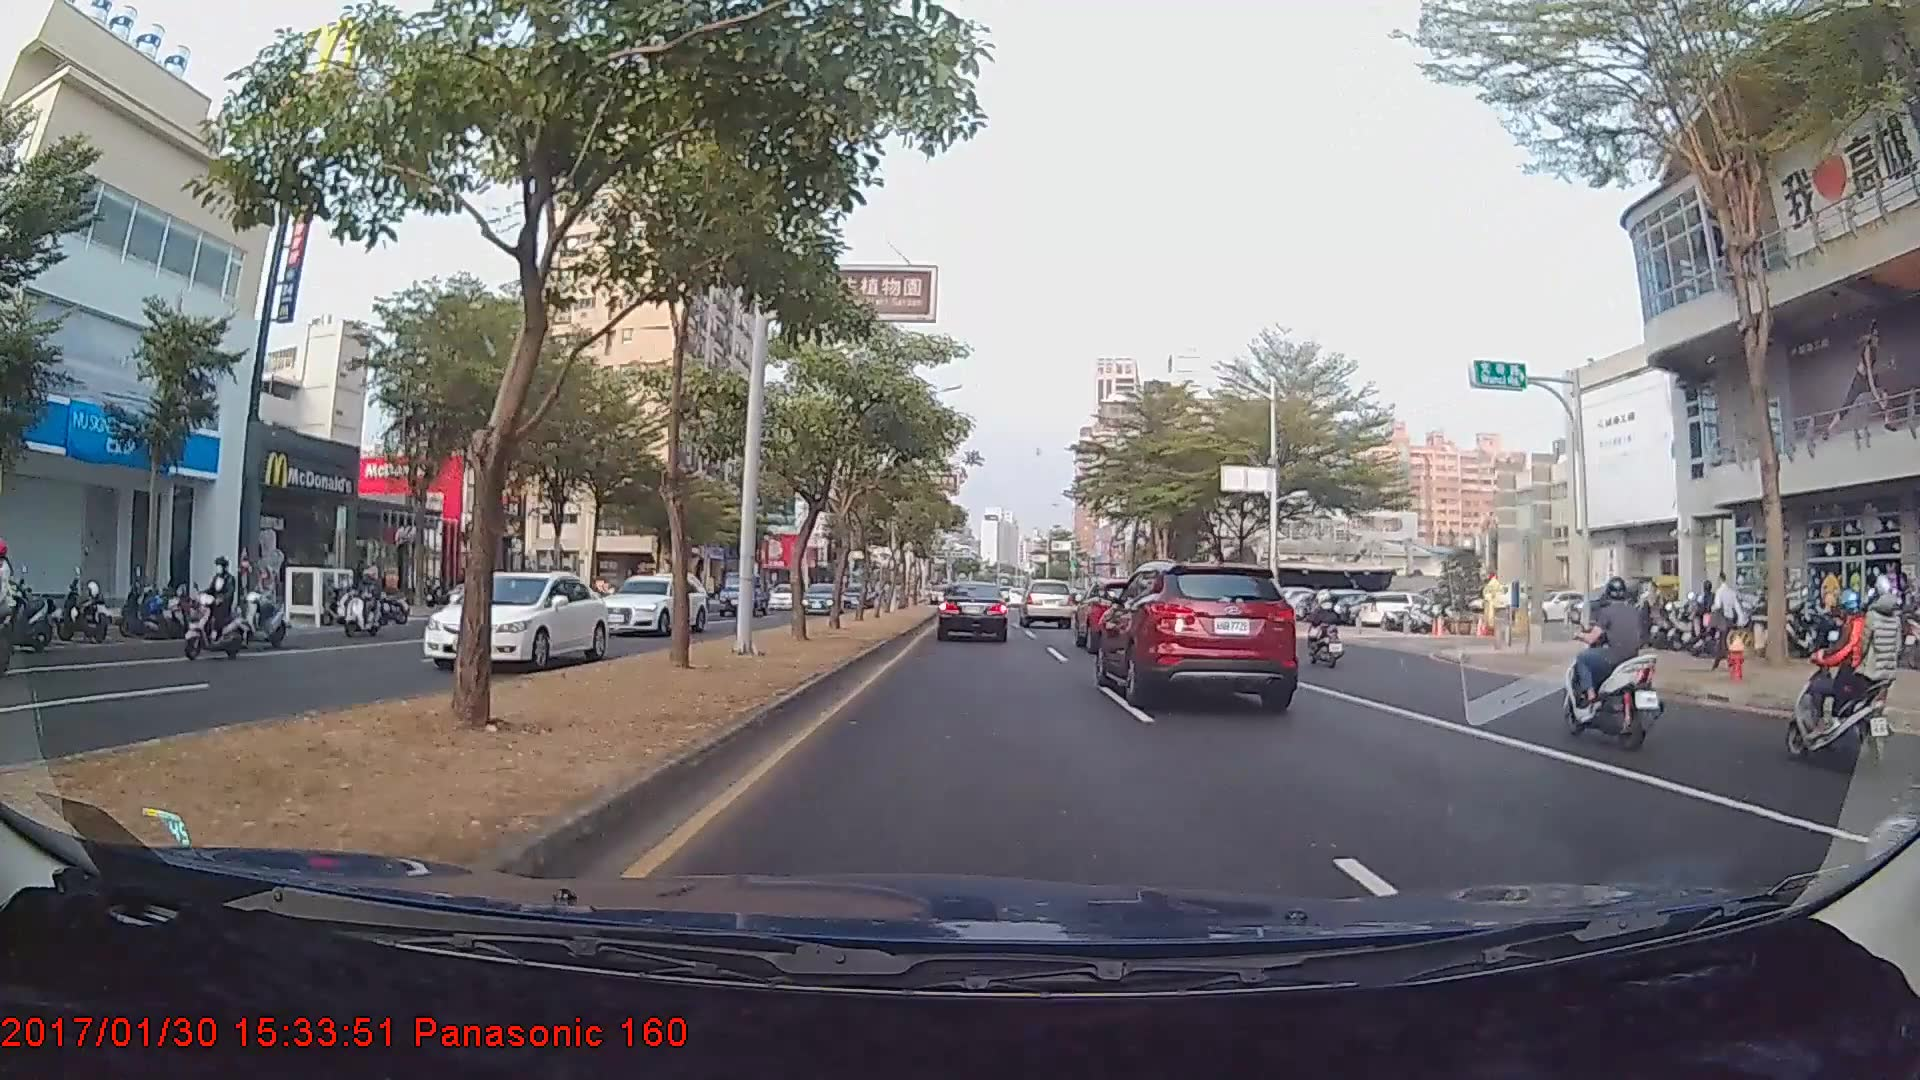pedestrian: (1709, 570, 1743, 668)
rider: (1785, 574, 1908, 764), (1553, 572, 1673, 751), (177, 552, 255, 667), (228, 555, 296, 650), (340, 566, 400, 645), (1300, 586, 1349, 668)
vehicle: (1099, 562, 1296, 703), (420, 571, 610, 674), (584, 575, 705, 635), (1071, 578, 1166, 653), (936, 579, 1009, 642), (1018, 578, 1077, 629), (717, 571, 769, 617)
